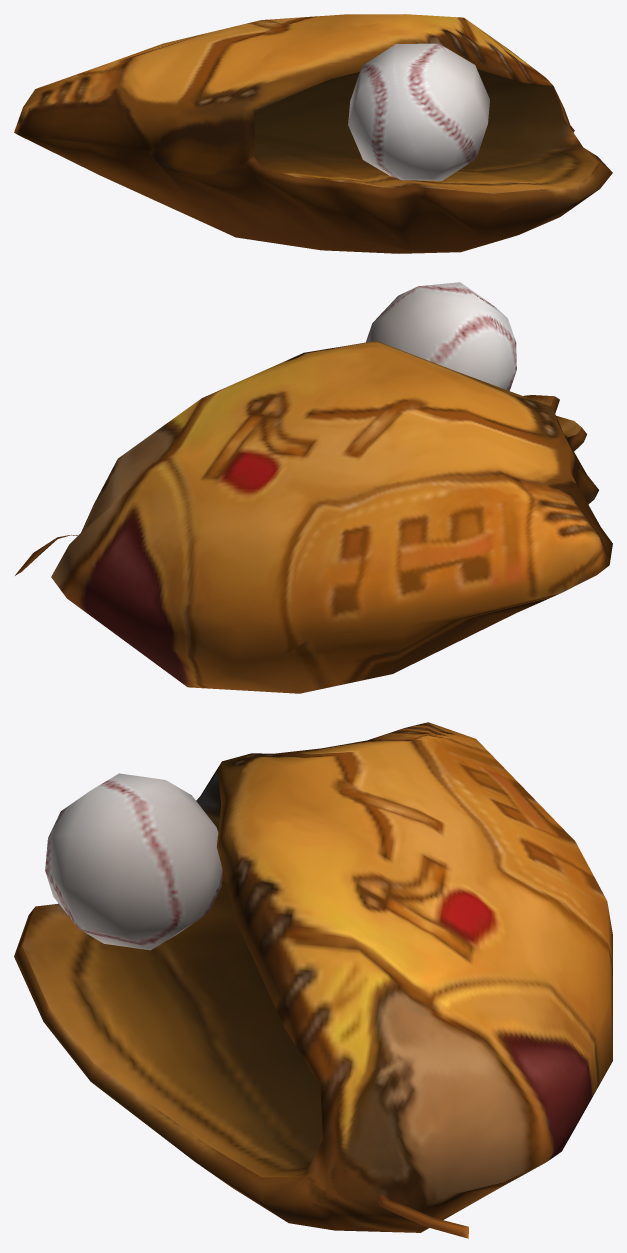
Rendered from HuBian_01_bangqiushoutao_01.FBX.
3 views of the same model, one above another, from view 1: azimuth 30°, elevation 25°; view 2: azimuth 150°, elevation 25°; view 3: azimuth 270°, elevation 25° (orthographic). The views are drawn at different scales.
Parts seen in each view (by area): view 1: HuBian_01_bangqiushoutao_01; view 2: HuBian_01_bangqiushoutao_01; view 3: HuBian_01_bangqiushoutao_01.
Boxes of the visible parts, left/top/right/bottom form: HuBian_01_bangqiushoutao_01: left=14, top=14, right=612, bottom=253; HuBian_01_bangqiushoutao_01: left=15, top=282, right=612, bottom=693; HuBian_01_bangqiushoutao_01: left=14, top=722, right=612, bottom=1238.
Bounding box in the file's own units: 148 × 73.75 × 113.
Materials: 1 (1 with a texture image).
